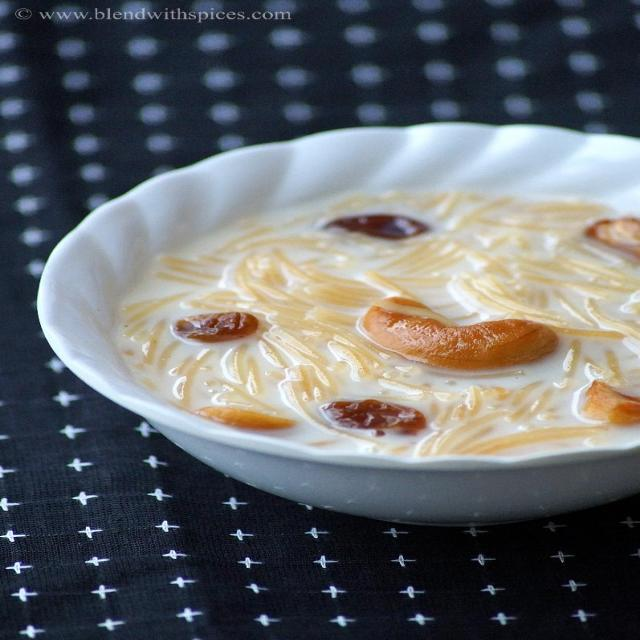shavige payasa: (86, 160, 640, 474)
